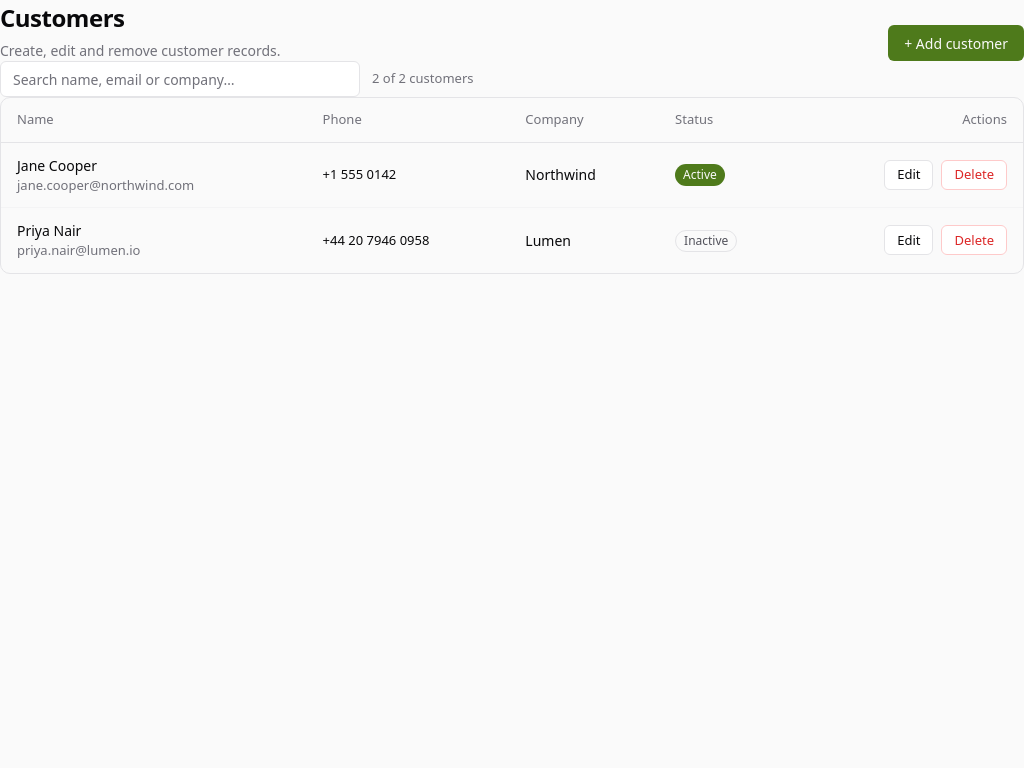
Test case: CustomersScreen — dialogs › opens the create dialog from the Add customer button
The width and height of the screenshot is (1024, 768).
Click the button "+ Add customer". click: [956, 43]
box: [888, 25, 1023, 61]
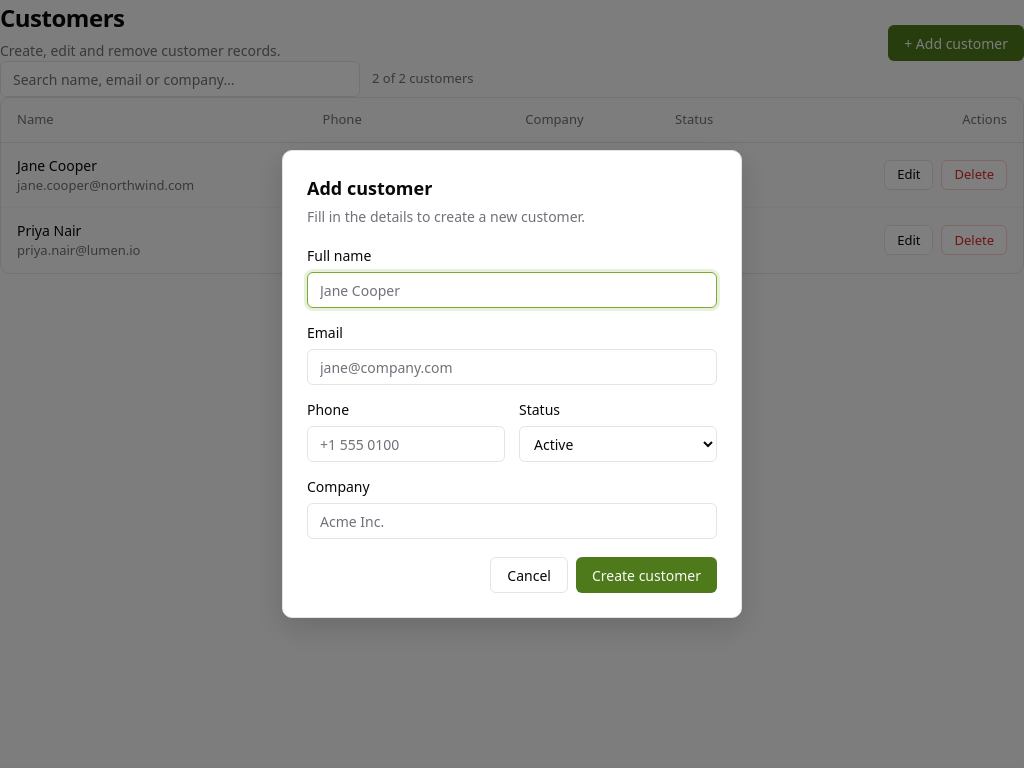
Expected: the dialog is shown, [282, 150, 742, 618]
Expected: the heading "Add customer" is shown, [307, 176, 432, 200]
